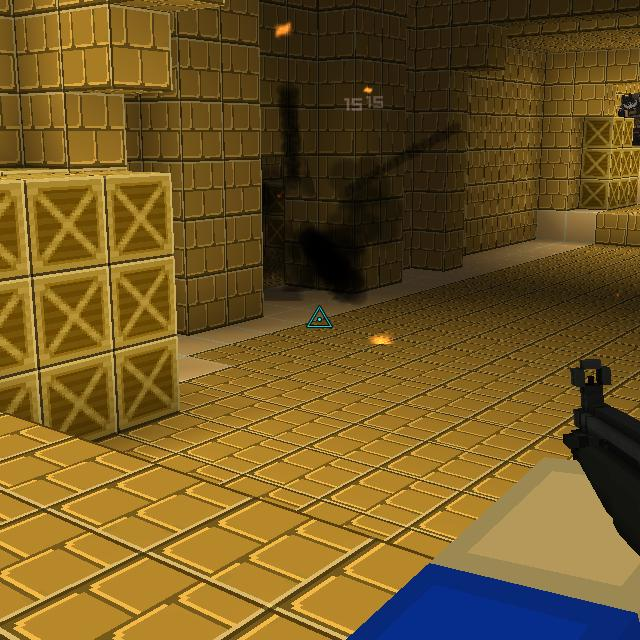enemy: (617, 91, 640, 148)
